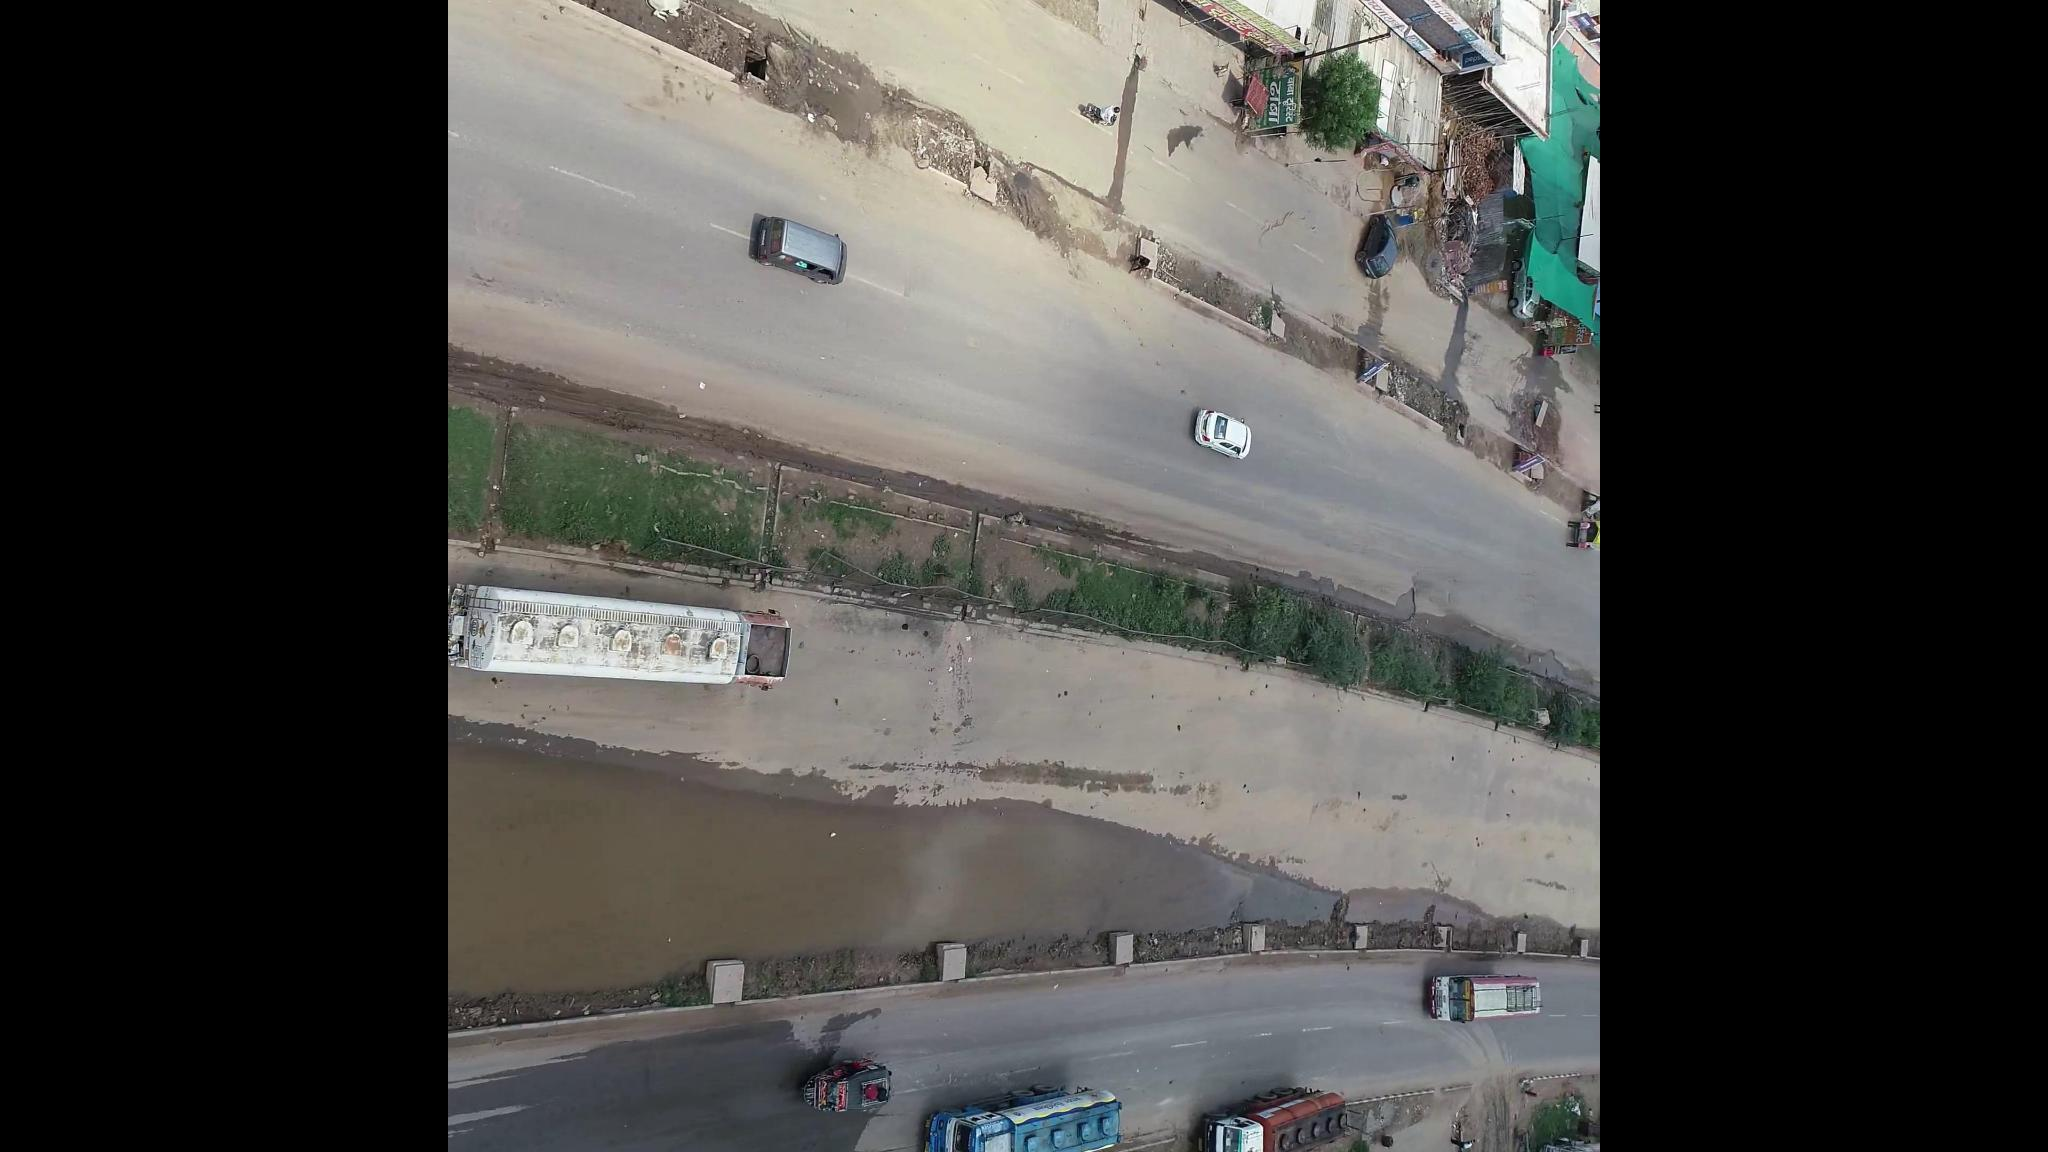Waterlogging: (475, 745, 872, 962), (895, 781, 1242, 923)
